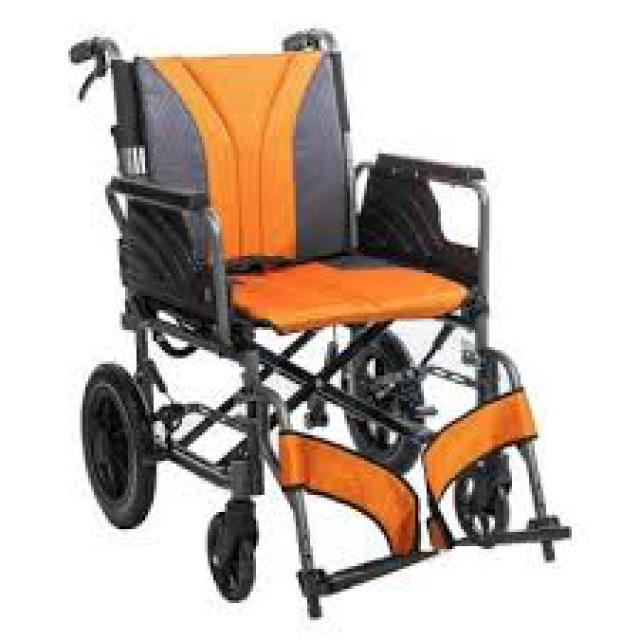wheelchair: (54, 29, 583, 620)
